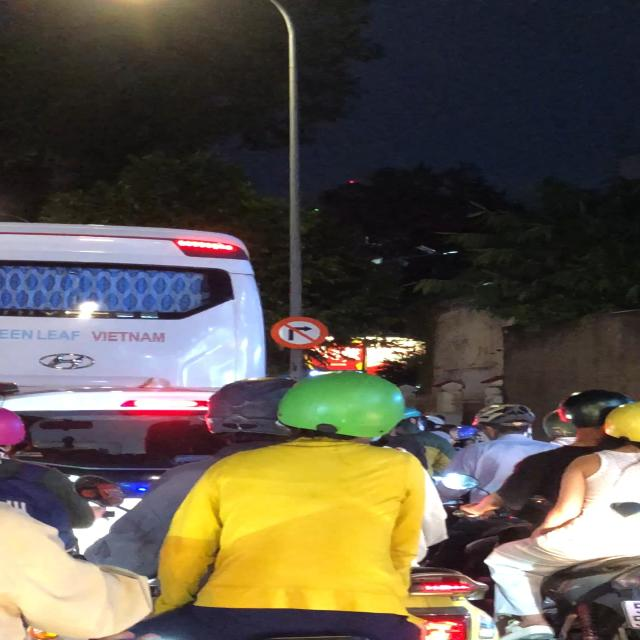Bien bao cam re phai: (265, 311, 340, 352)
